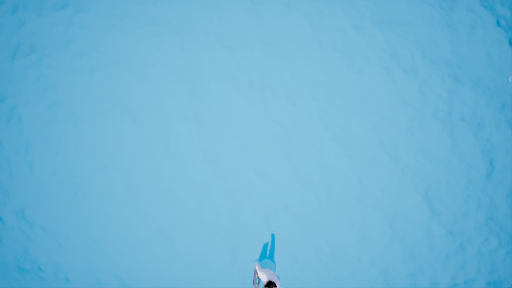person: (244, 225, 287, 288)
